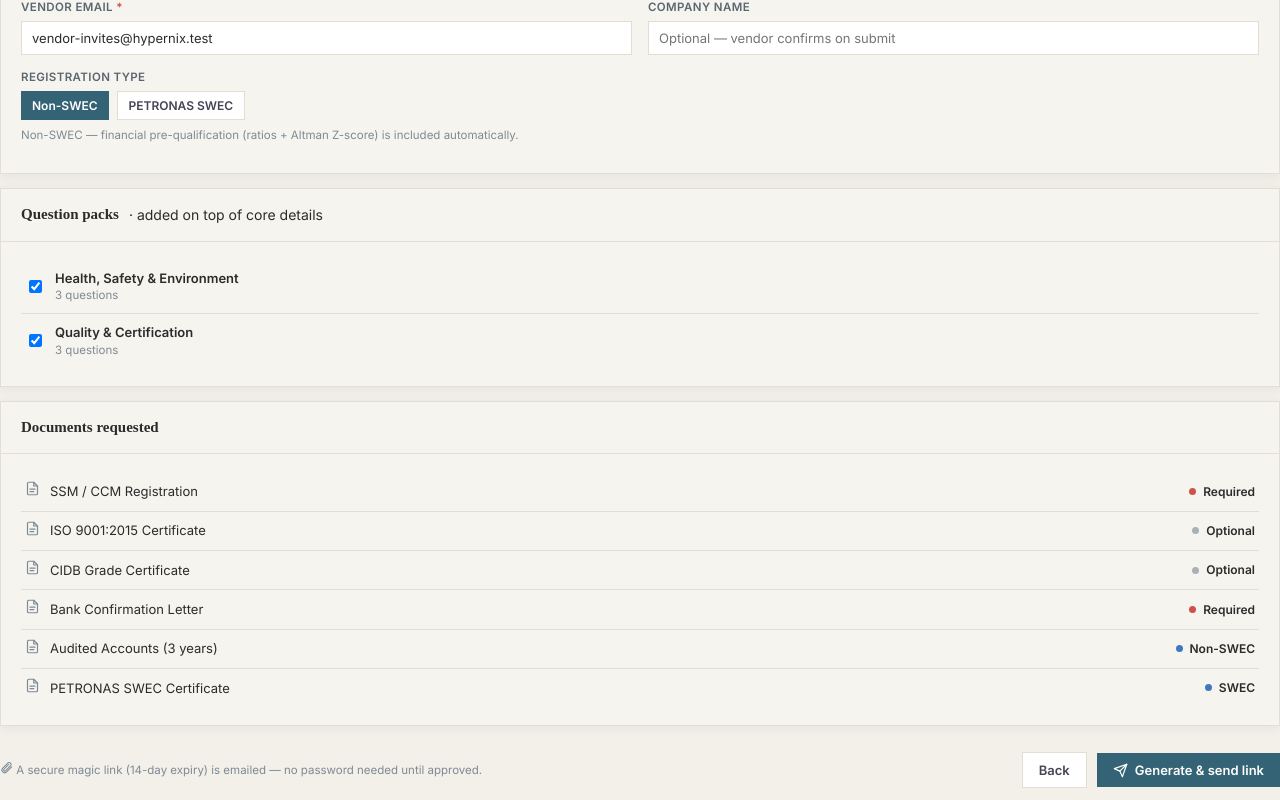
Test: Onboarding — invite (Slice B) › sends the invite with the email, type and selected packs, then shows the magic link
(page scrolled)
Expected: the field named "Vendor email" is shown, [21,21,632,55]
Step 1. Click the button "Generate & send link" → click(1188, 770), box [1097,753,1279,787]
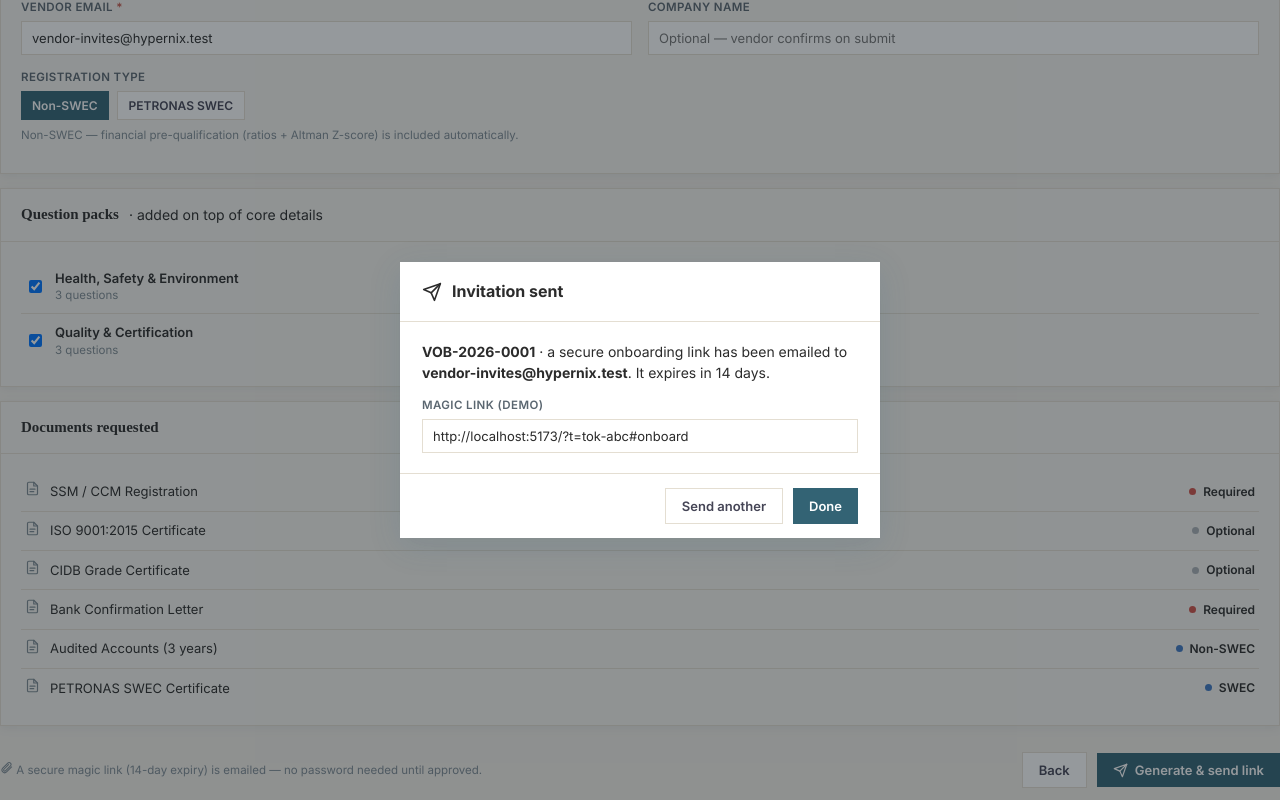
Expected: the heading "Invitation sent" is shown, [452,280,563,304]
